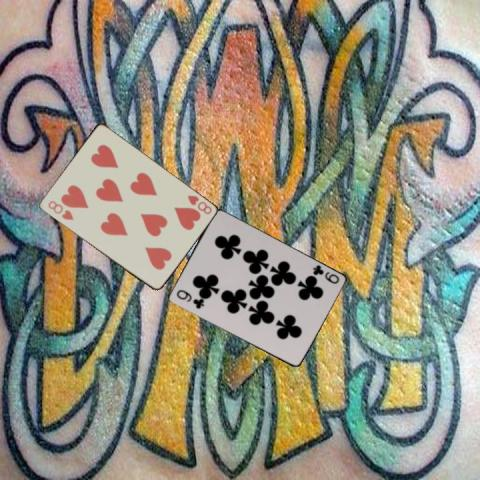8h: (44, 197, 74, 222), (184, 192, 213, 216)
9c: (174, 286, 206, 310), (309, 262, 341, 285)
